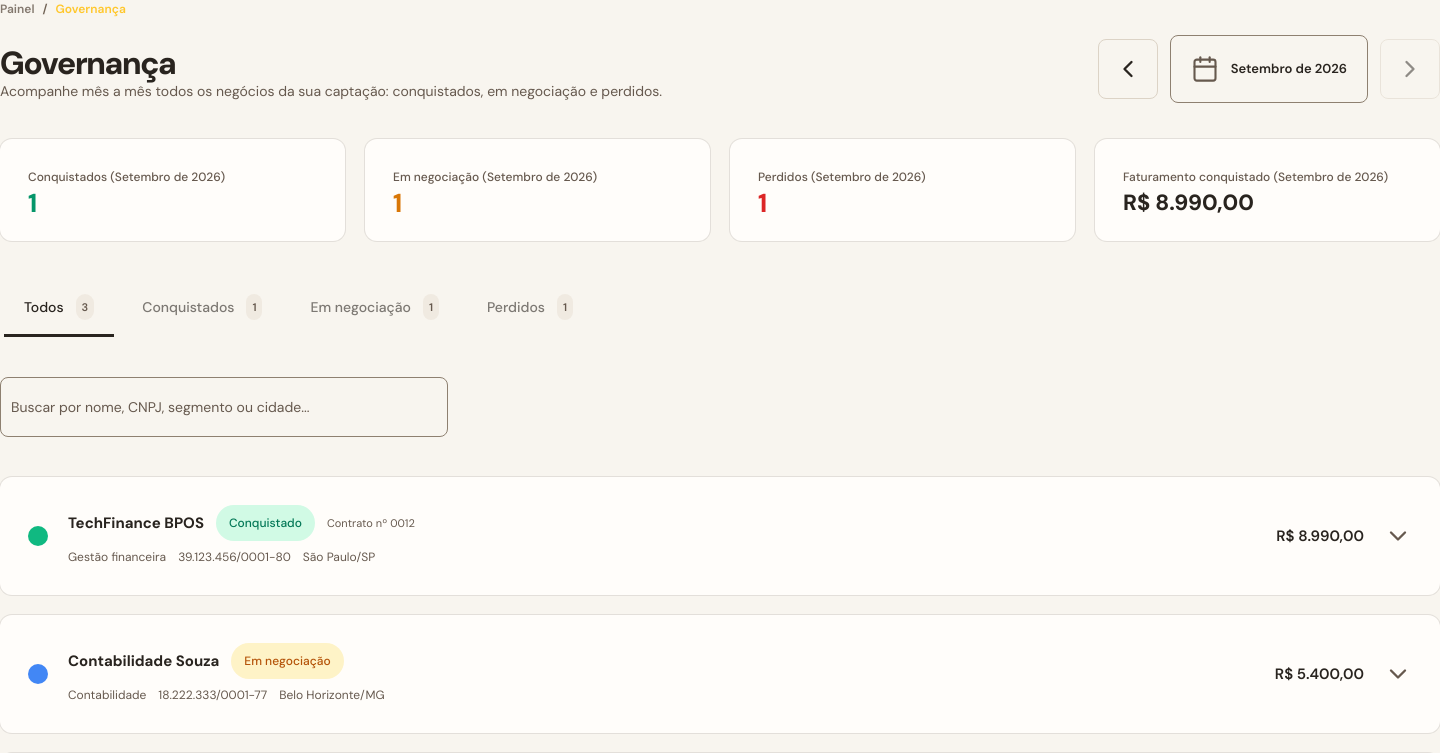
Test: GovernancaPage › navega entre meses pelos botões prev/next (calendário)
The width and height of the screenshot is (1440, 753).
Expected: the text "TechFinance BPOS" is shown, [68,513,204,533]
Expected: the button with test id "month-next" is disabled, [1380,39,1439,99]
Click the button with test id "month-prev". click: (1128, 69)
box: [1098,39,1158,99]
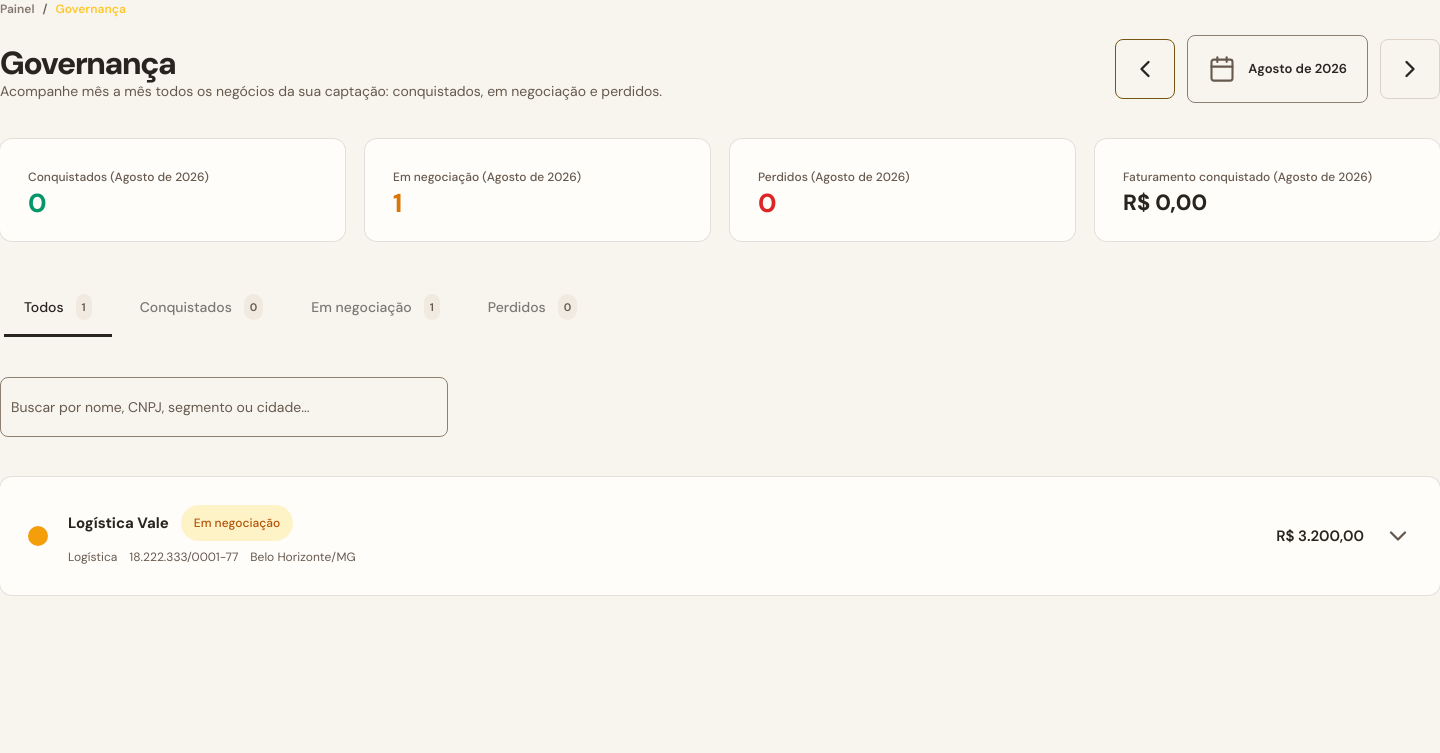
Expected: the text "Logística Vale" is shown, [68,513,169,533]
Expected: the button "TechFinance BPOS" is gone
Expected: the button with test id "month-next" is enabled
Click the button with test id "month-next". click: (1410, 69)
box: [1380,39,1439,99]
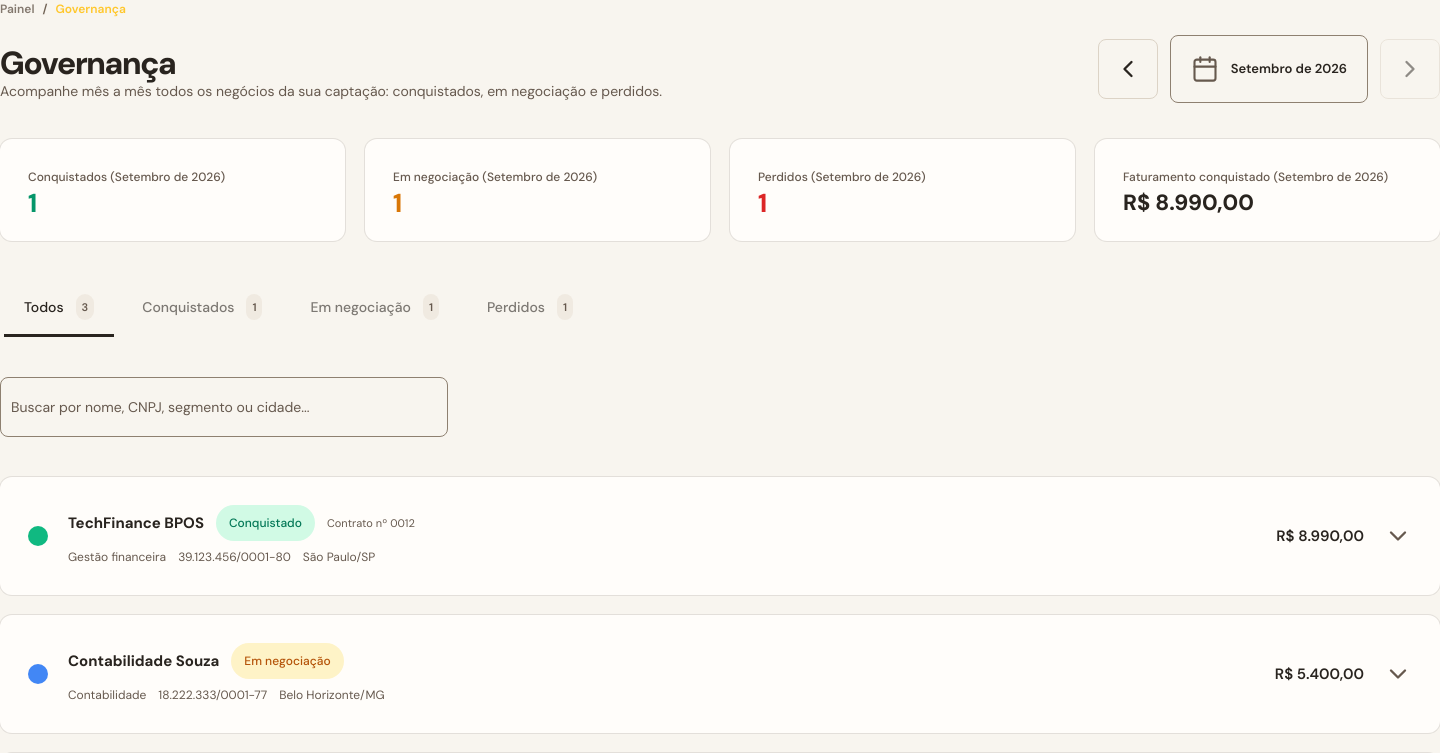
Expected: the text "TechFinance BPOS" is shown, [68,513,204,533]
Expected: the button "Logística Vale" is gone
Expected: the button with test id "month-next" is disabled, [1380,39,1439,99]
